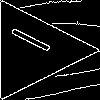I: (8, 25, 62, 60)
